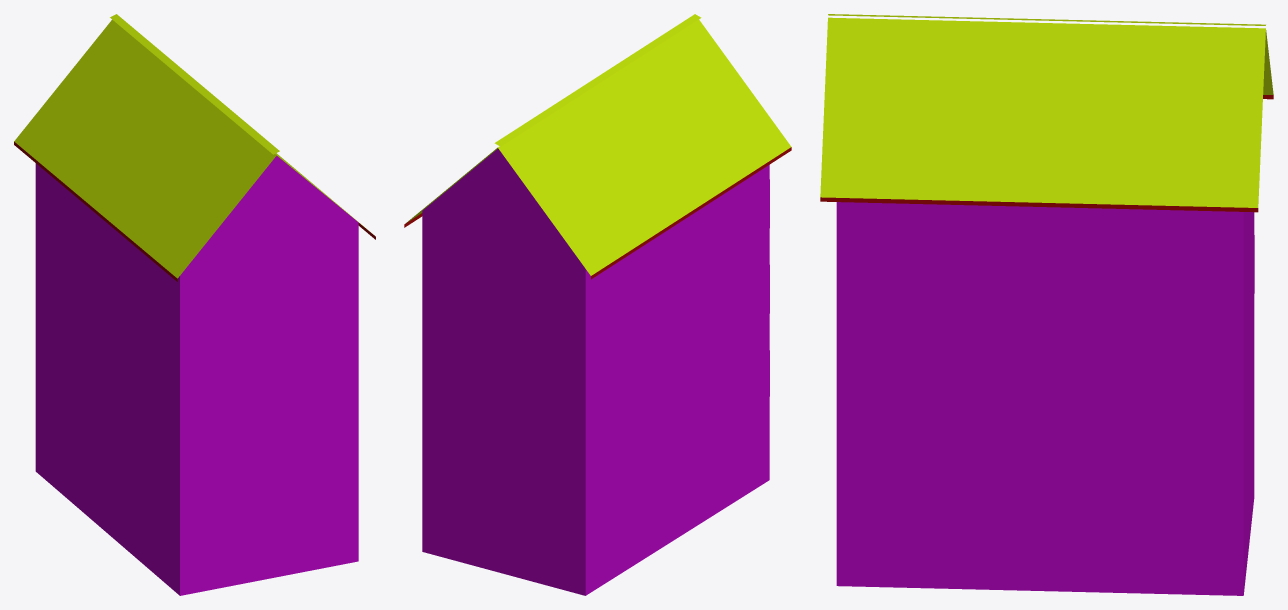
The model's file is bgj_320.glb.
3 renders of one model, left to right at view 1: azimuth 30°, elevation 25°; view 2: azimuth 150°, elevation 25°; view 3: azimuth 270°, elevation 25°, orthographic. The views are drawn at different scales.
Parts seen in each view (by area): view 1: bgj_320; view 2: bgj_320; view 3: bgj_320.
Boxes of the visible parts, x1,y1,x2,y2 form: bgj_320: (14,14,375,595); bgj_320: (404,14,791,595); bgj_320: (820,14,1273,595).
Bounding box in the file's own units: 7.54 × 14.86 × 11.69.
